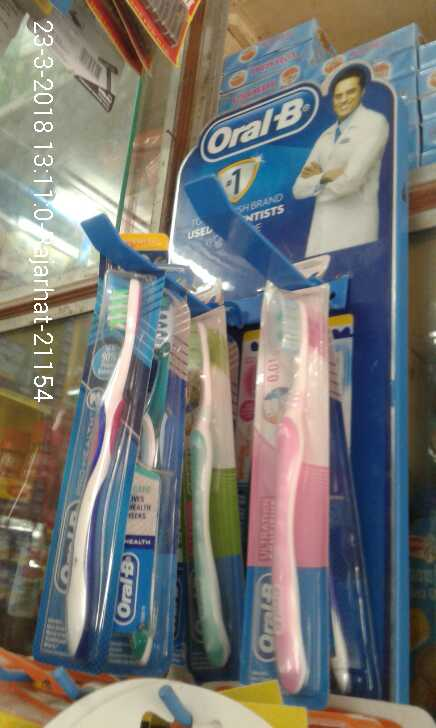oralb: (240, 260, 335, 696), (57, 250, 153, 671)
